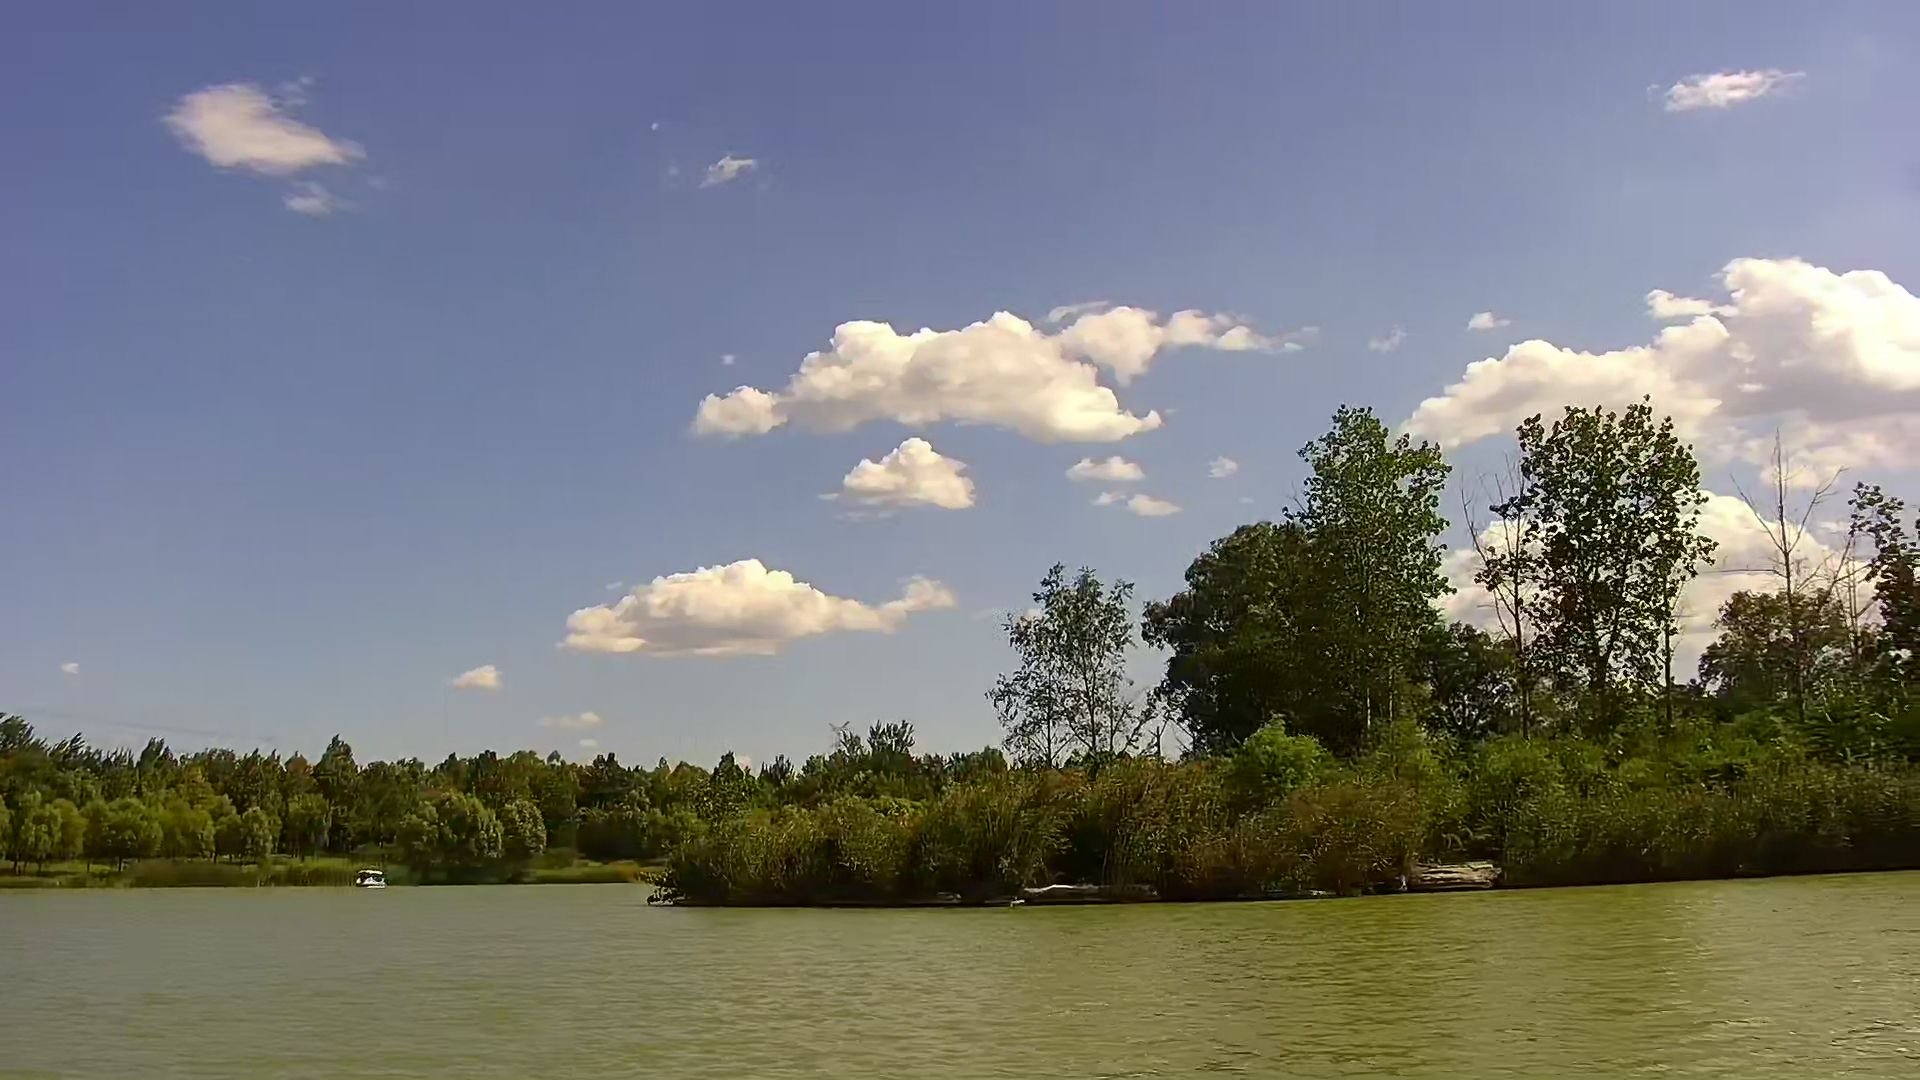boat: (348, 869, 390, 891)
